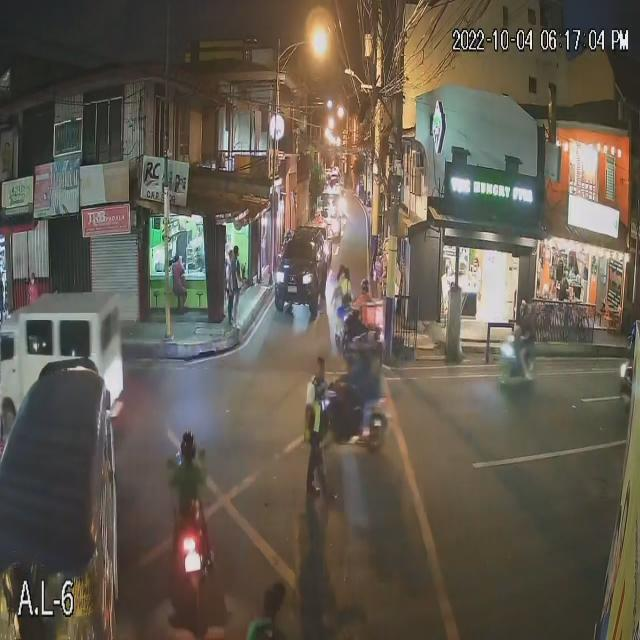helmet: (177, 430, 197, 457), (358, 279, 370, 291)
motorcycle: (157, 528, 222, 622), (322, 377, 391, 447), (499, 338, 549, 393), (340, 319, 383, 361)
rider: (174, 464, 202, 521), (359, 298, 376, 341)
